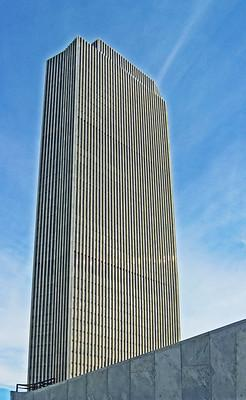building: (26, 34, 182, 378)
